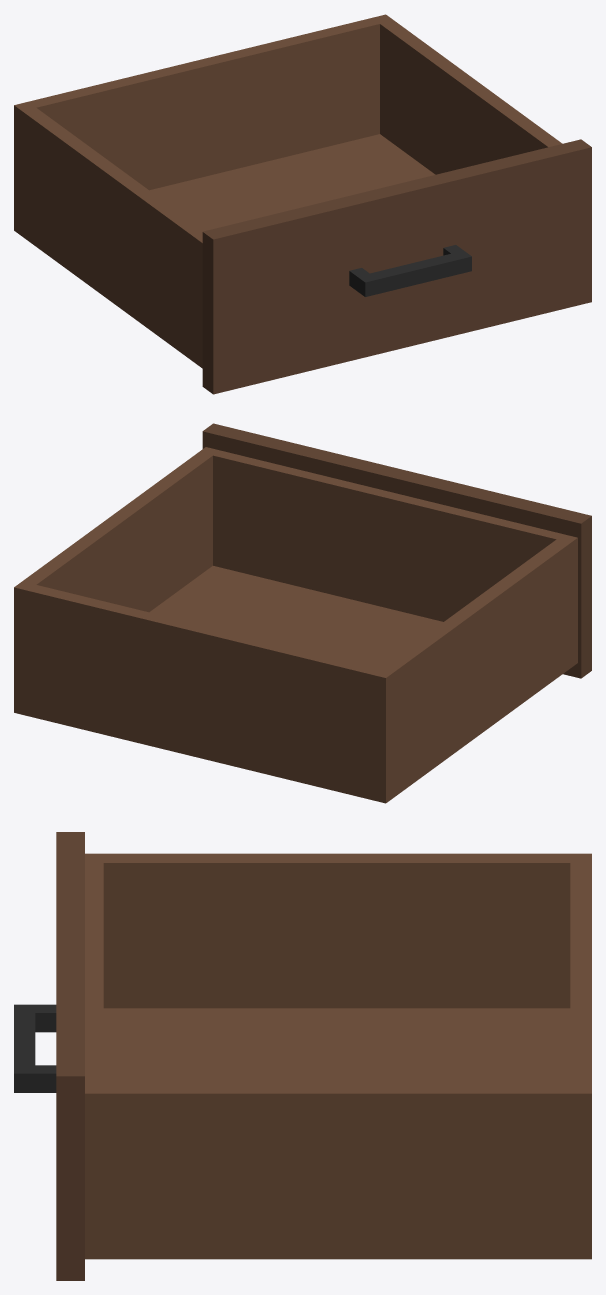
Rendered from BedTable2_C1_02.fbx.
The picture shows the model from 3 angles, top to bottom: view 1: azimuth 30°, elevation 25°; view 2: azimuth 150°, elevation 25°; view 3: azimuth 270°, elevation 25°; orthographic projection. The views are drawn at different scales.
Parts seen in each view (by area): view 1: BedTable2_C1_02; view 2: BedTable2_C1_02; view 3: BedTable2_C1_02.
Boxes of the visible parts, <box> form: BedTable2_C1_02: <box>14,14,591,394</box>; BedTable2_C1_02: <box>14,423,591,803</box>; BedTable2_C1_02: <box>14,832,591,1280</box>.
Size of the model in its own units: 40.5 by 15.83 by 40.51.
